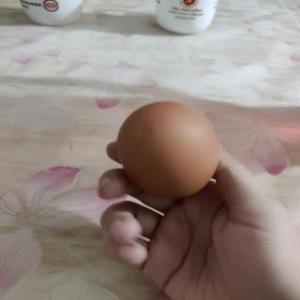egg: (117, 100, 222, 195)
